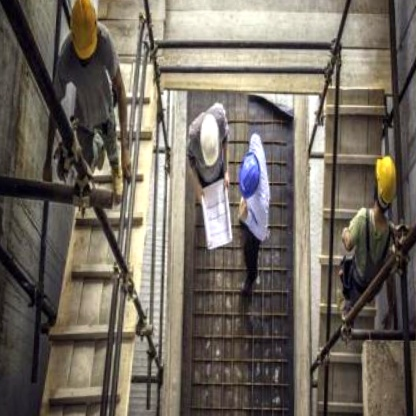blue: (237, 150, 263, 200)
white: (196, 109, 225, 173)
yellow: (64, 0, 102, 67), (372, 150, 399, 206)
